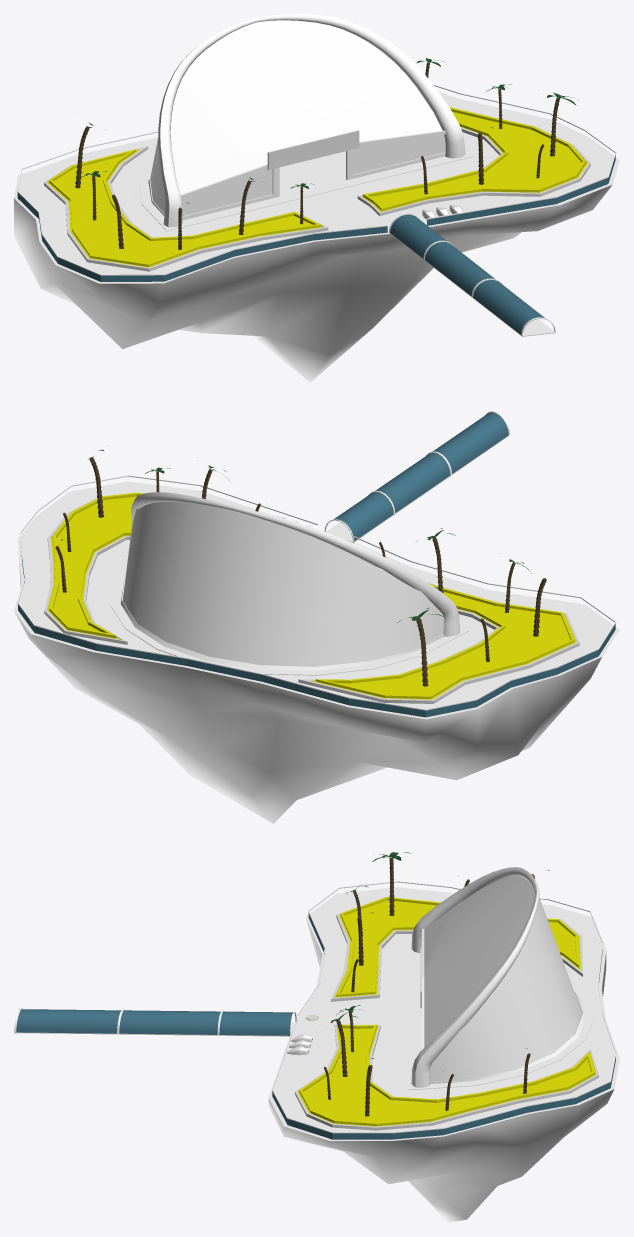
The model's file is Isla.glb.
The picture shows the model from 3 angles, top to bottom: view 1: azimuth 30°, elevation 25°; view 2: azimuth 150°, elevation 25°; view 3: azimuth 270°, elevation 25°; orthographic projection. The views are drawn at different scales.
Visible parts, largest first — view 1: Almacen1; view 2: Almacen1; view 3: Almacen1.
Boxes of the visible parts, <box> form: Almacen1: <box>14,14,619,382</box>; Almacen1: <box>14,411,619,823</box>; Almacen1: <box>14,852,619,1222</box>.
Size of the model in its own units: 1.54 by 0.9228 by 1.55.
Materials: 17 (2 with a texture image).
